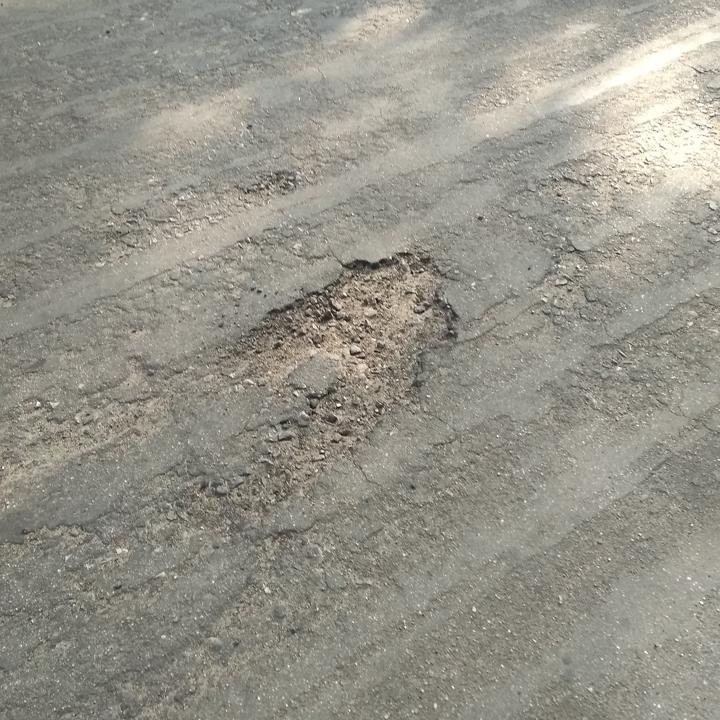Pothole: (187, 192, 484, 653)
